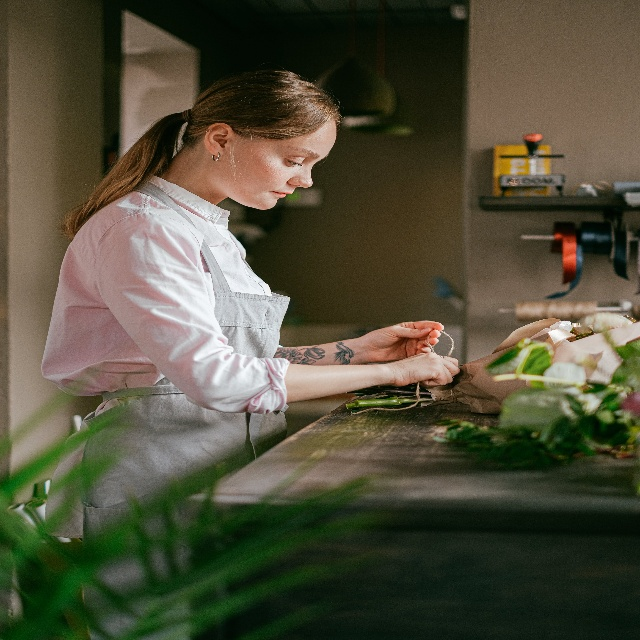Sin_guantes: (366, 320, 444, 365), (388, 351, 460, 387)
